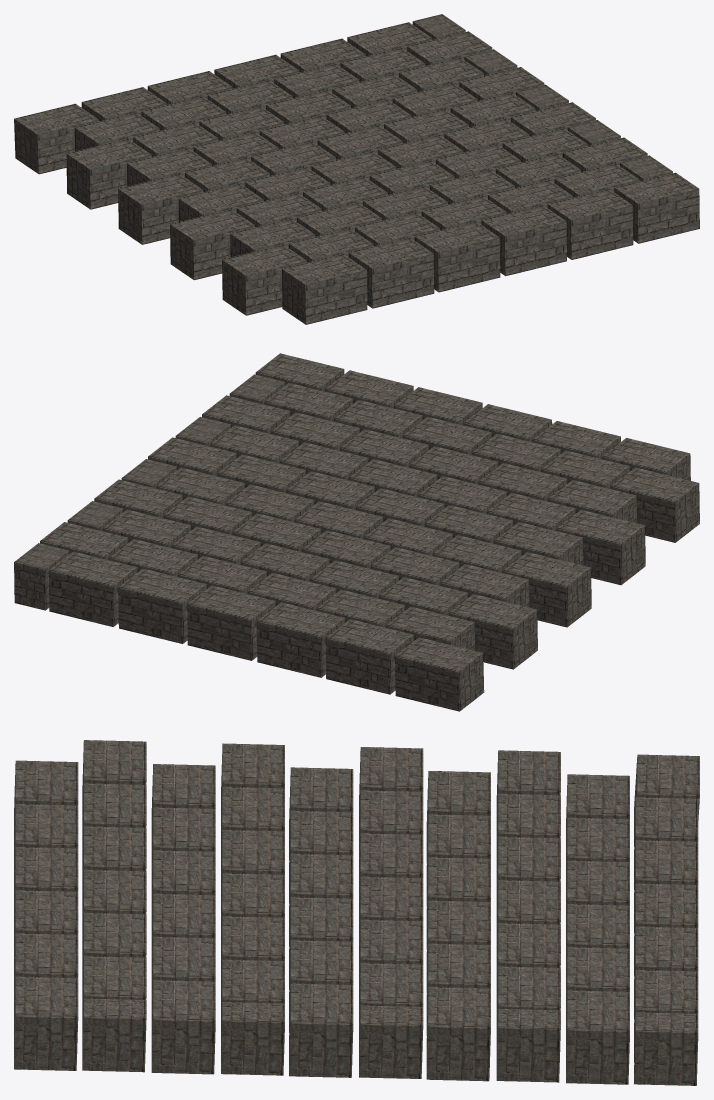
File: pisoborde.fbx
3 renders of one model, top to bottom at view 1: azimuth 30°, elevation 25°; view 2: azimuth 150°, elevation 25°; view 3: azimuth 270°, elevation 25°, orthographic. The views are drawn at different scales.
Visible parts, largest first — view 1: polySurface79; view 2: polySurface79; view 3: polySurface79.
Part boxes in pixels (x1,y1,x2,y2): polySurface79: (14,14,699,324); polySurface79: (14,353,699,711); polySurface79: (14,740,699,1085).
Bounding box in the file's own units: 11.3 × 1.32 × 11.76.
